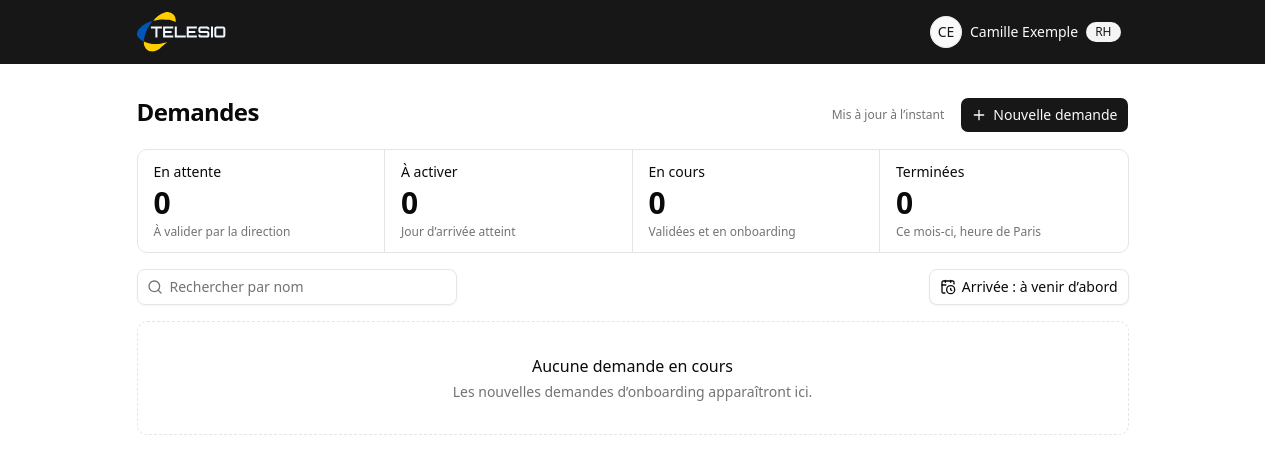
Test: en-tête et menu utilisateur › le menu s’ouvre aussi à la souris
Click the button with aria-label "Menu utilisateur": (1027, 32) [926,12,1128,52]
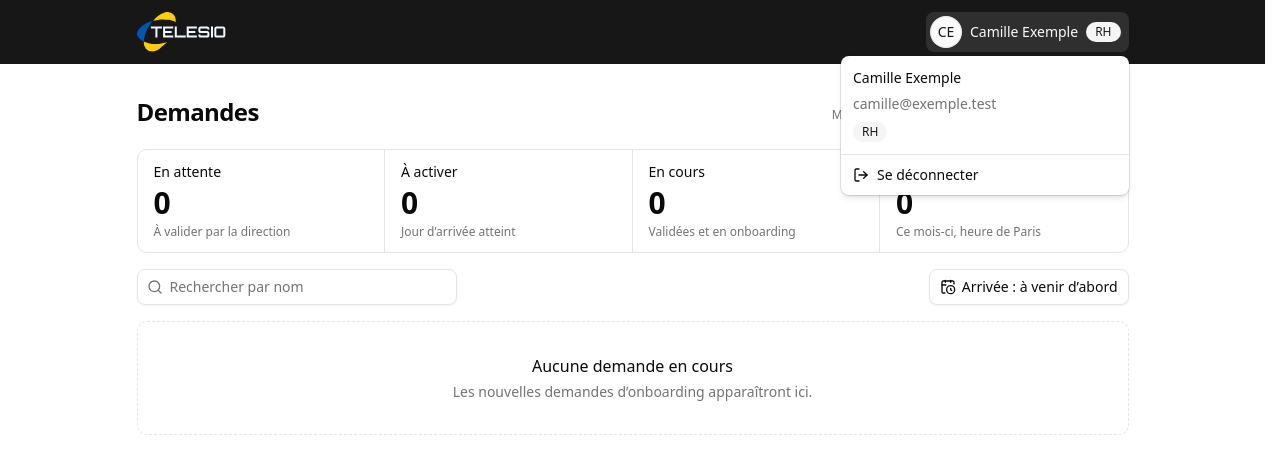
Expected: the menu item "Se déconnecter" is shown, [853,165,979,184]
